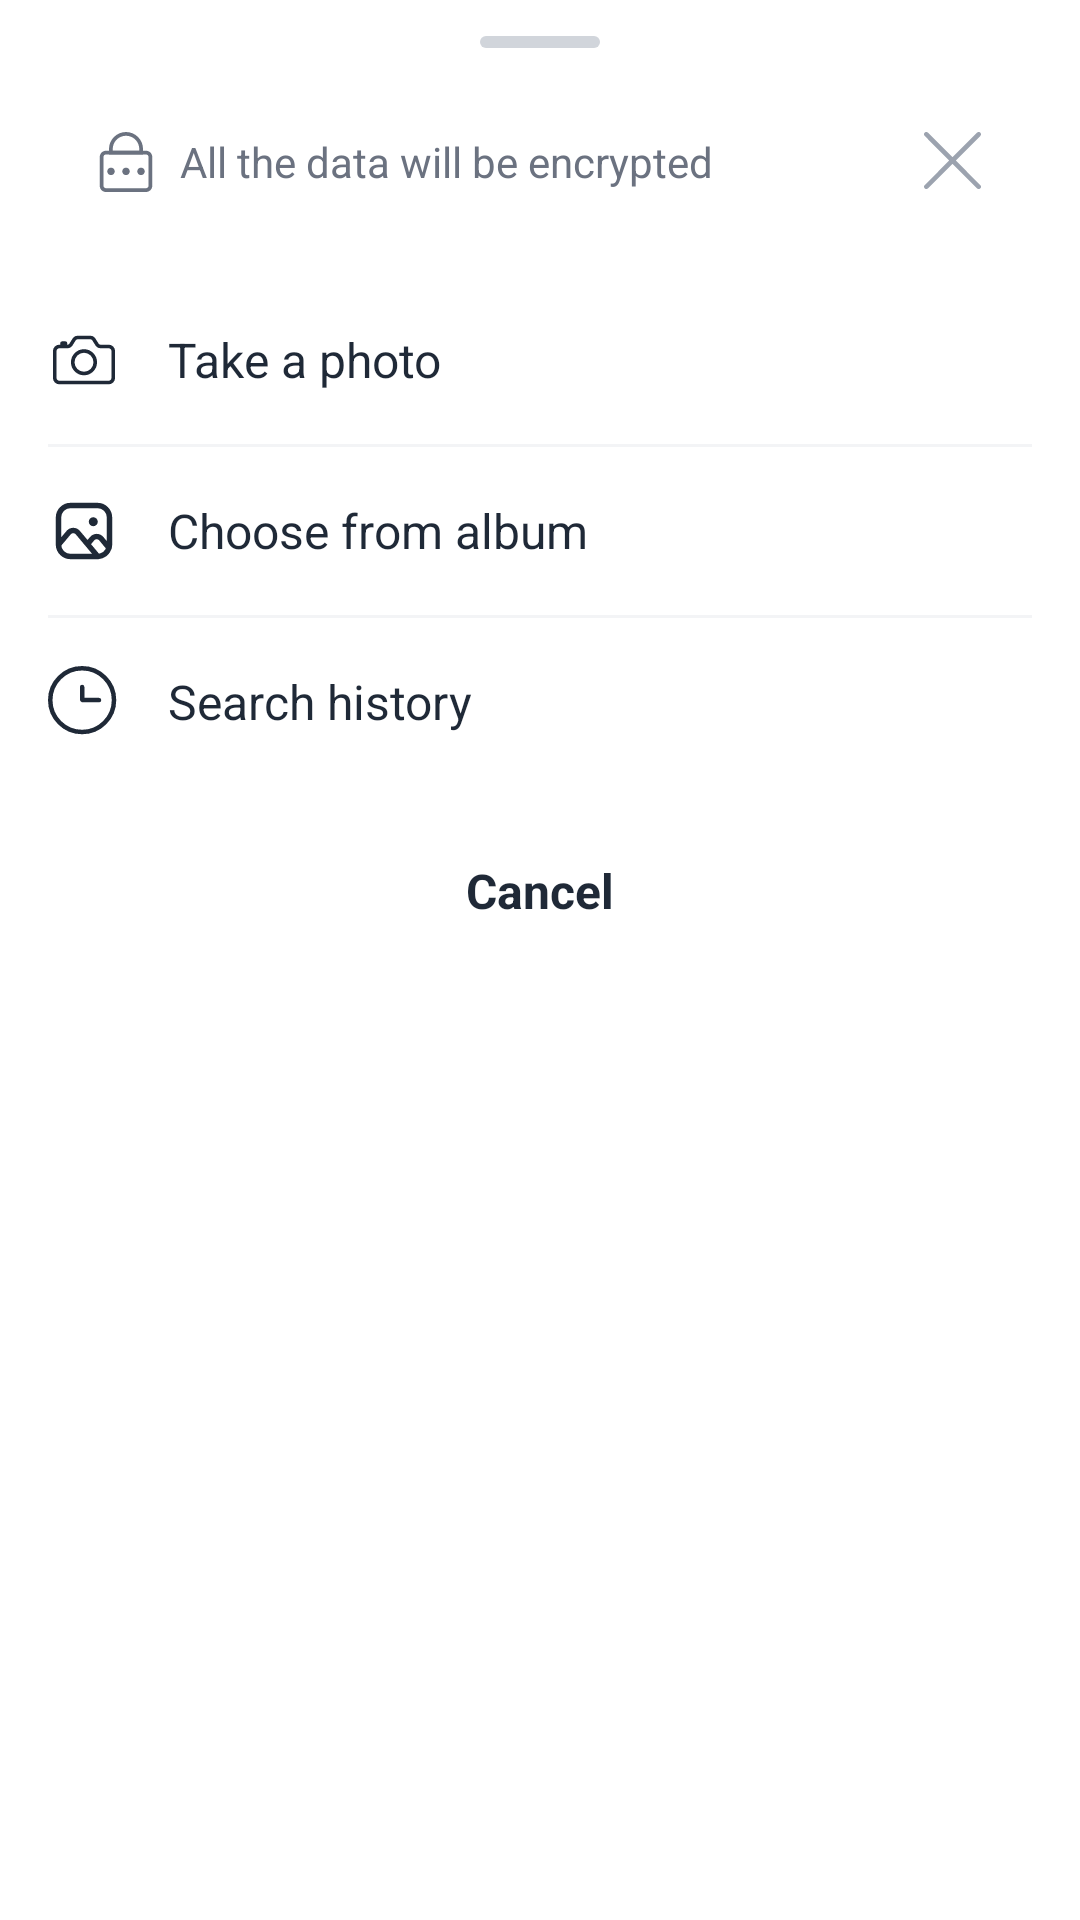

Icon click points for this 1080 × 1920 phone screenshot, format [x,y]:
Close: [952,160]
